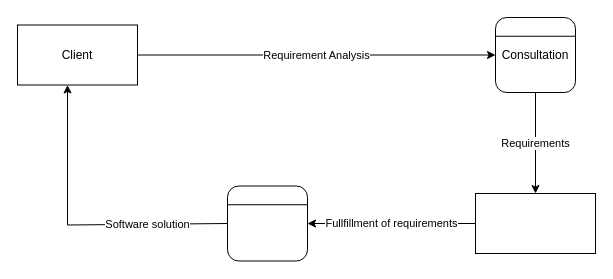
Some shapes in this 613 by 279 pixel diagram are drawn without their labels. The shapes that lost their labels are listed below. From the top down, each one's centre as x and y in pixels, then its label:
[267,223]: Software Development
[535,223]: Development Team
